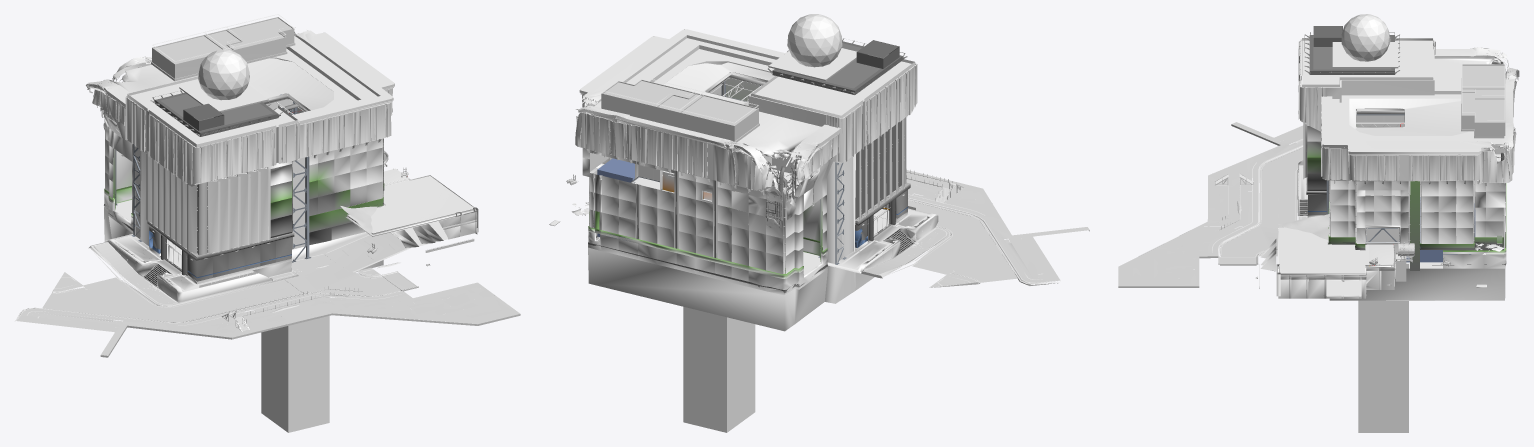
File: cell_84_56.fbx
3 renders of one model, left to right at view 1: azimuth 30°, elevation 25°; view 2: azimuth 150°, elevation 25°; view 3: azimuth 270°, elevation 25°, orthographic. The views are drawn at different scales.
Visible parts, largest first — view 1: SM_H_Building_FutureTech_HLight_01_ExterWall_Damage_02.mo, SM_I_RoadFacility_Ground_H_09.mo, SM_H_Building_FutureTech_HLight_01_ExterWall_Damage_01C.mo, SM_H_Building_FutureTech_HLight_01_ExterWall_06.mo.001, SM_H_Building_FutureTech_HStairs_05.mo.001, SM_I_RoadFacility_Ground_H_06.mo.001, SM_H_Building_FutureTech_HLight_01_ExterWall_04.mo.001, SM_H_Building_FutureTech_HBlack_01_InterWall_04H.mo, SM_H_Building_FutureTech_HLight_01_ExterWall_05.mo.001, SM_H_Building_FutureTech_HLight_01_ExterWall_05.mo.002, SM_I_RoadFacility_Ground_H_09B.mo, SM_H_Building_FutureTech_HBlack_01_InterWall_07.mo (+4 smaller); view 2: SM_H_Building_FutureTech_HLight_01_ExterWall_Damage_01C.mo, SM_H_Building_FutureTech_HLight_01_ExterWall_Damage_02.mo, SM_I_RoadFacility_Ground_H_09.mo, SM_H_Building_FutureTech_HLight_01_ExterWall_06.mo.001, SM_H_Building_FutureTech_HBlack_01_InterWall_04H.mo, SM_H_Building_FutureTech_HLight_01_ExterWall_05.mo.002, SM_H_Building_FutureTech_HLight_01_ExterWall_05.mo.001, SM_I_RoadFacility_Ground_H_06.mo.001, SM_H_Building_FutureTech_HLight_01_ExterWall_04.mo.001, SM_H_Building_FutureTech_HBlack_01_InterWall_07.mo, SM_I_RoadFacility_Ground_H_09B.mo, SM_I_RoadFacility_Ground_H_06B.mo.001; view 3: SM_H_Building_FutureTech_HLight_01_ExterWall_Damage_01C.mo, SM_H_Building_FutureTech_HLight_01_ExterWall_Damage_02.mo, SM_I_RoadFacility_Ground_H_09.mo, SM_H_Building_FutureTech_HStairs_05.mo.001, SM_H_Building_FutureTech_HLight_01_ExterWall_06.mo.001, SM_H_Building_FutureTech_HBlack_01_InterWall_04H.mo, SM_H_Building_FutureTech_HLight_01_ExterWall_05.mo.001, SM_H_Building_FutureTech_HLight_01_ExterWall_05.mo.002, SM_I_RoadFacility_Ground_H_09B.mo, SM_I_Terrain_Road_Desert_Decal_Sand_06.mo.132, SM_H_Building_FutureTech_HBlack_01_InterWall_08.mo, SM_H_Building_FutureTech_HLight_01_ExterWall_04.mo.001.
Part boxes in pixels (x1,y1,x2,y2): SM_H_Building_FutureTech_HLight_01_ExterWall_Damage_02.mo: (86, 26, 394, 262); SM_I_RoadFacility_Ground_H_09.mo: (15, 232, 520, 357); SM_H_Building_FutureTech_HLight_01_ExterWall_Damage_01C.mo: (97, 34, 384, 432); SM_H_Building_FutureTech_HLight_01_ExterWall_06.mo.001: (150, 49, 282, 136); SM_H_Building_FutureTech_HStairs_05.mo.001: (346, 168, 478, 247); SM_I_RoadFacility_Ground_H_06.mo.001: (105, 232, 368, 303); SM_H_Building_FutureTech_HLight_01_ExterWall_04.mo.001: (147, 221, 294, 284); SM_H_Building_FutureTech_HBlack_01_InterWall_04H.mo: (247, 58, 333, 215); SM_H_Building_FutureTech_HLight_01_ExterWall_05.mo.001: (204, 14, 295, 63); SM_H_Building_FutureTech_HLight_01_ExterWall_05.mo.002: (151, 27, 242, 81); SM_I_RoadFacility_Ground_H_09B.mo: (15, 234, 411, 332); SM_H_Building_FutureTech_HBlack_01_InterWall_07.mo: (113, 149, 132, 221); SM_H_Building_FutureTech_HLight_01_ExterWall_Damage_01C.mo: (582, 38, 906, 432); SM_H_Building_FutureTech_HLight_01_ExterWall_Damage_02.mo: (575, 29, 917, 292); SM_I_RoadFacility_Ground_H_09.mo: (861, 170, 1089, 287); SM_H_Building_FutureTech_HLight_01_ExterWall_06.mo.001: (768, 14, 907, 94); SM_H_Building_FutureTech_HBlack_01_InterWall_04H.mo: (597, 62, 775, 257); SM_H_Building_FutureTech_HLight_01_ExterWall_05.mo.002: (656, 90, 759, 142); SM_H_Building_FutureTech_HLight_01_ExterWall_05.mo.001: (601, 76, 703, 121); SM_I_RoadFacility_Ground_H_06.mo.001: (827, 208, 938, 273); SM_H_Building_FutureTech_HLight_01_ExterWall_04.mo.001: (855, 182, 910, 250); SM_H_Building_FutureTech_HBlack_01_InterWall_07.mo: (785, 197, 822, 275); SM_I_RoadFacility_Ground_H_09B.mo: (863, 194, 1060, 286); SM_I_RoadFacility_Ground_H_06B.mo.001: (839, 209, 928, 269); SM_H_Building_FutureTech_HLight_01_ExterWall_Damage_01C.mo: (1307, 58, 1508, 432); SM_H_Building_FutureTech_HLight_01_ExterWall_Damage_02.mo: (1298, 38, 1519, 265); SM_I_RoadFacility_Ground_H_09.mo: (1118, 122, 1306, 287); SM_H_Building_FutureTech_HStairs_05.mo.001: (1276, 226, 1406, 298); SM_H_Building_FutureTech_HLight_01_ExterWall_06.mo.001: (1304, 14, 1399, 74); SM_H_Building_FutureTech_HBlack_01_InterWall_04H.mo: (1349, 98, 1502, 262); SM_H_Building_FutureTech_HLight_01_ExterWall_05.mo.001: (1461, 86, 1505, 138); SM_H_Building_FutureTech_HLight_01_ExterWall_05.mo.002: (1461, 61, 1505, 105); SM_I_RoadFacility_Ground_H_09B.mo: (1212, 140, 1307, 263); SM_I_Terrain_Road_Desert_Decal_Sand_06.mo.132: (1278, 214, 1329, 239); SM_H_Building_FutureTech_HBlack_01_InterWall_08.mo: (1355, 225, 1400, 243); SM_H_Building_FutureTech_HLight_01_ExterWall_04.mo.001: (1306, 177, 1326, 217).
Bounding box in the file's own units: 136 × 119 × 117.
